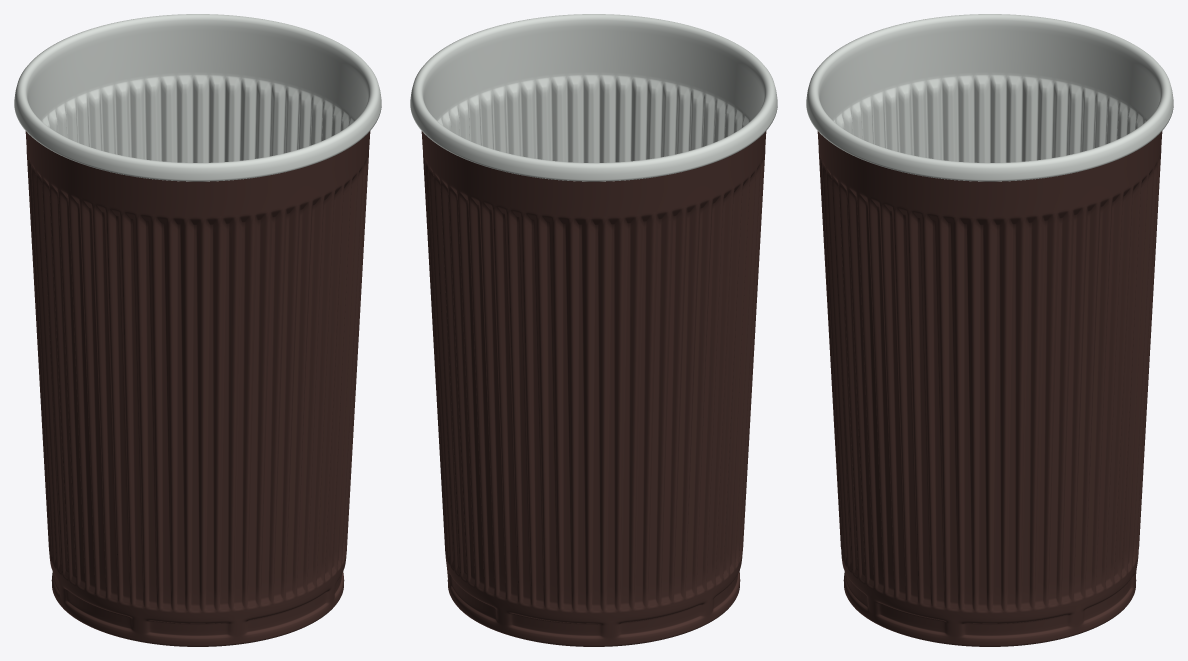
File: Plastic_Cup.glb
The picture shows the model from 3 angles, left to right: view 1: azimuth 30°, elevation 25°; view 2: azimuth 150°, elevation 25°; view 3: azimuth 270°, elevation 25°; orthographic projection.
Parts seen in each view (by area): view 1: Plastic_Cup_High-poly; view 2: Plastic_Cup_High-poly; view 3: Plastic_Cup_High-poly.
Boxes of the visible parts, <box> form: Plastic_Cup_High-poly: <box>14,14,381,646</box>; Plastic_Cup_High-poly: <box>410,14,777,646</box>; Plastic_Cup_High-poly: <box>806,14,1173,646</box>.
Bounding box in the file's own units: 254 × 379 × 254.
